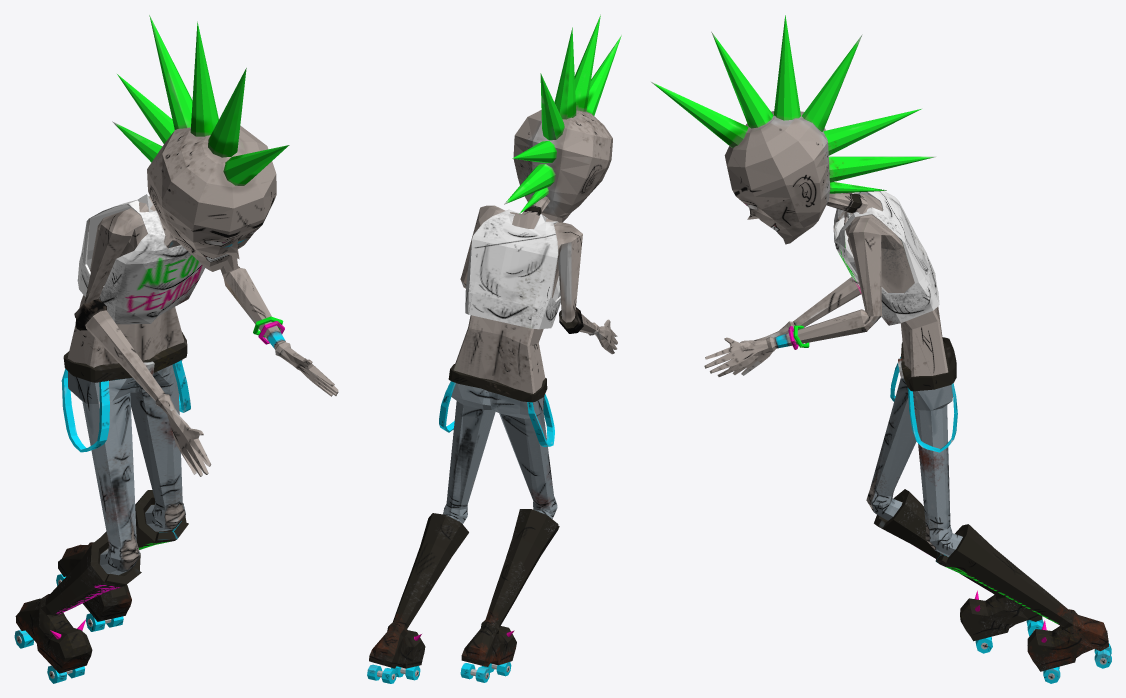
Rendered from punkAnimation_000015.obj.
3 views of the same model, side by side, from view 1: azimuth 30°, elevation 25°; view 2: azimuth 150°, elevation 25°; view 3: azimuth 270°, elevation 25° (orthographic). The views are drawn at different scales.
Visible parts, largest first — view 1: Cube.004_Cube.003; view 2: Cube.004_Cube.003; view 3: Cube.004_Cube.003.
Part boxes in pixels (x1,y1,x2,y2): Cube.004_Cube.003: [14, 15, 338, 683]; Cube.004_Cube.003: [367, 14, 621, 683]; Cube.004_Cube.003: [651, 15, 1111, 683].
Size of the model in its own units: 1.56 by 6.62 by 4.32.
